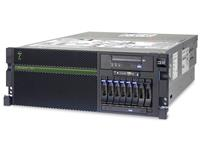ibm-server: (1, 29, 198, 122)
